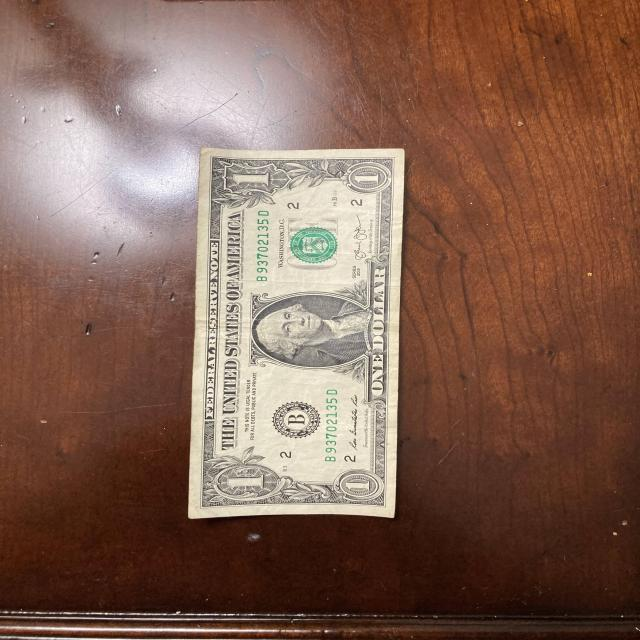one: (186, 148, 407, 520)
